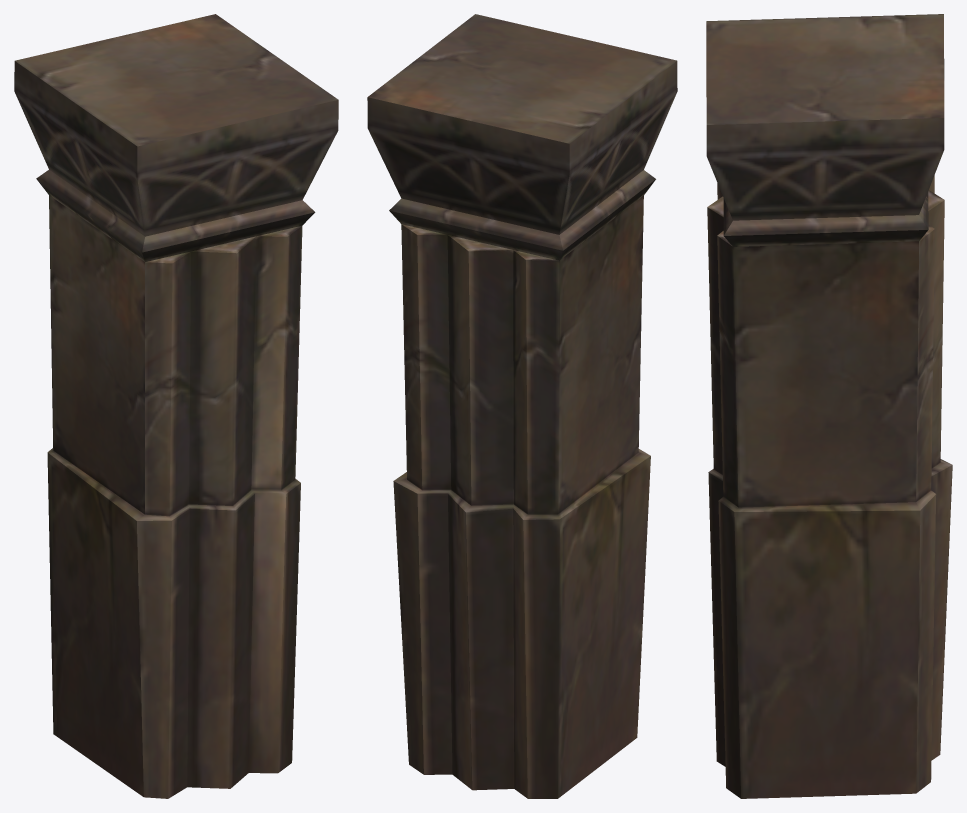
File: rysd_zhuzi_03.FBX
3 views of the same model, side by side, from view 1: azimuth 30°, elevation 25°; view 2: azimuth 150°, elevation 25°; view 3: azimuth 270°, elevation 25° (orthographic). The views are drawn at different scales.
Parts seen in each view (by area): view 1: rysd_zhuzi_03; view 2: rysd_zhuzi_03; view 3: rysd_zhuzi_03.
Part boxes in pixels (x1,y1,x2,y2): rysd_zhuzi_03: [14, 14, 338, 798]; rysd_zhuzi_03: [367, 14, 677, 798]; rysd_zhuzi_03: [706, 14, 952, 798].
Size of the model in its own units: 192 by 590 by 190.
